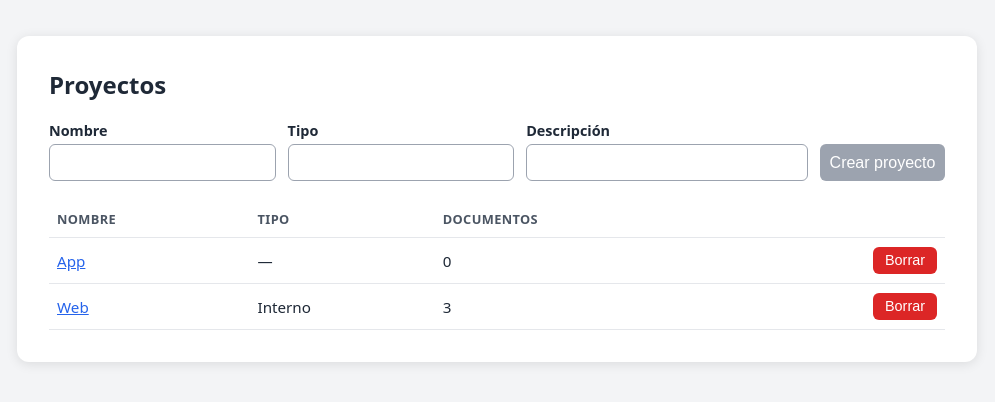
Scenario: Proyectos (listado) › muestra el 409 de nombre repetido
Expected: the link "Web" is shown, [57,297,89,317]
Type "web" into the field labelled "Nombre" at (162, 163), box [49,144,276,182]
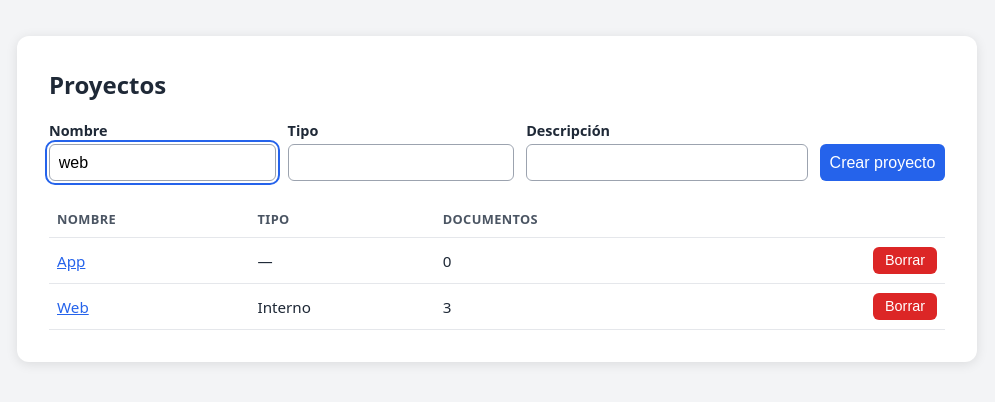
Click the button "Crear proyecto" at (882, 163), box [820,144,945,182]
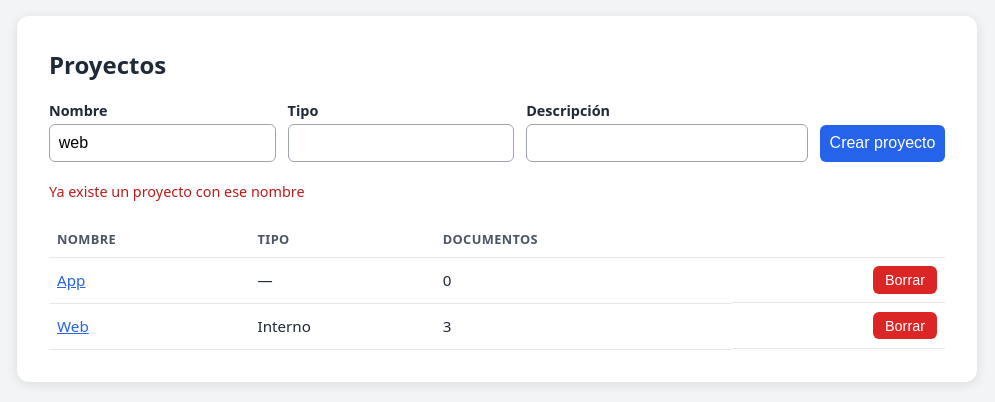
Result: the message reads "Ya existe un proyecto con ese nombre" at [49,182,305,201]
